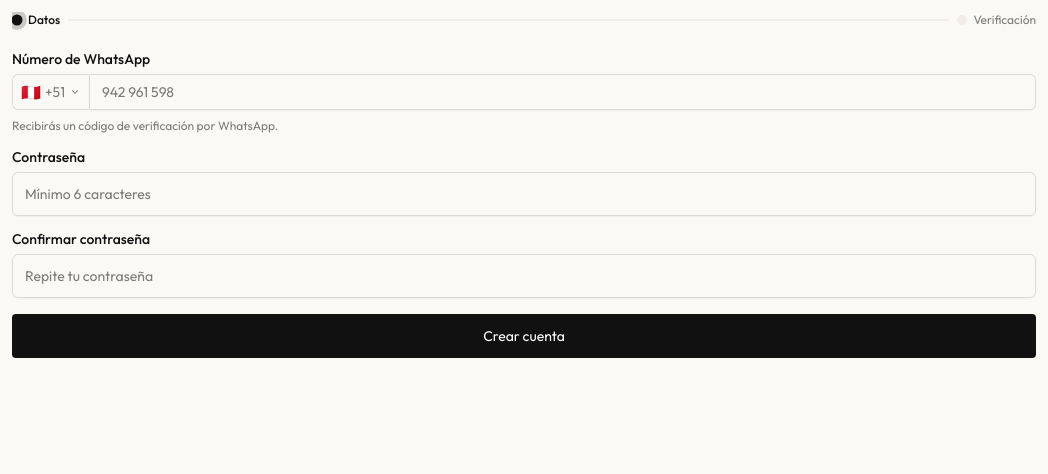
Test case: SignupForm — Step 1 (Phone + Password) › shows error when passwords do not match
The width and height of the screenshot is (1048, 474).
In the field labelled "Número de WhatsApp": point(562, 92) top-left (89, 74), bottom-right (1036, 110), type "999888777"
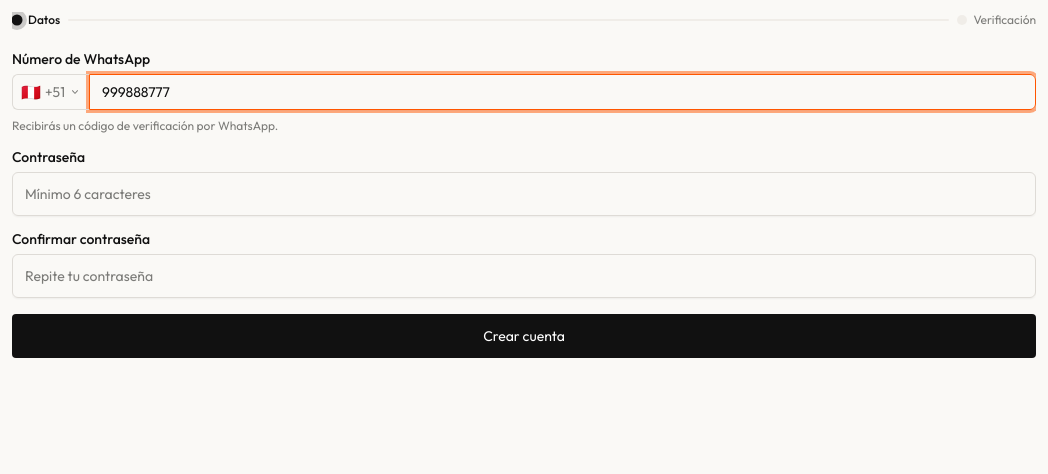
In the password field labelled "Contraseña": point(524, 194) top-left (12, 172), bottom-right (1036, 216), type "password123"
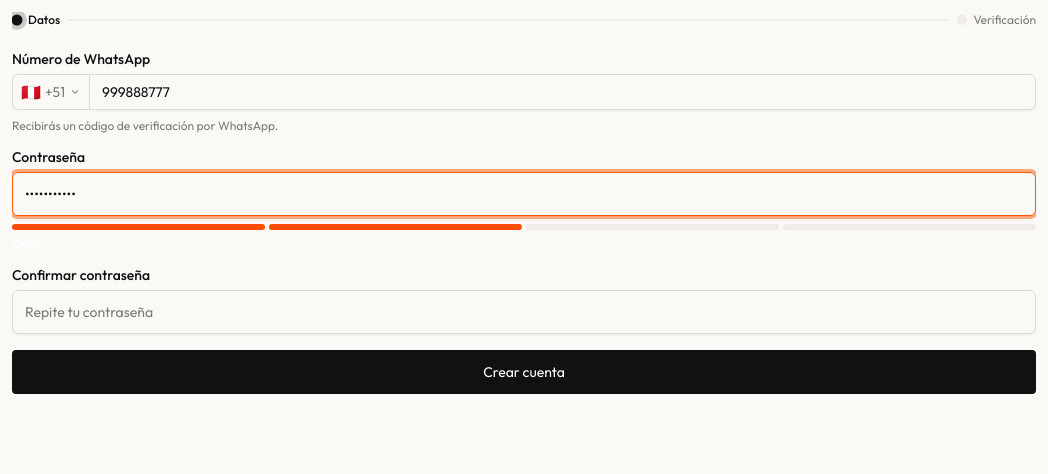
In the password field labelled "Confirmar contraseña": point(524, 312) top-left (12, 290), bottom-right (1036, 334), type "different123"
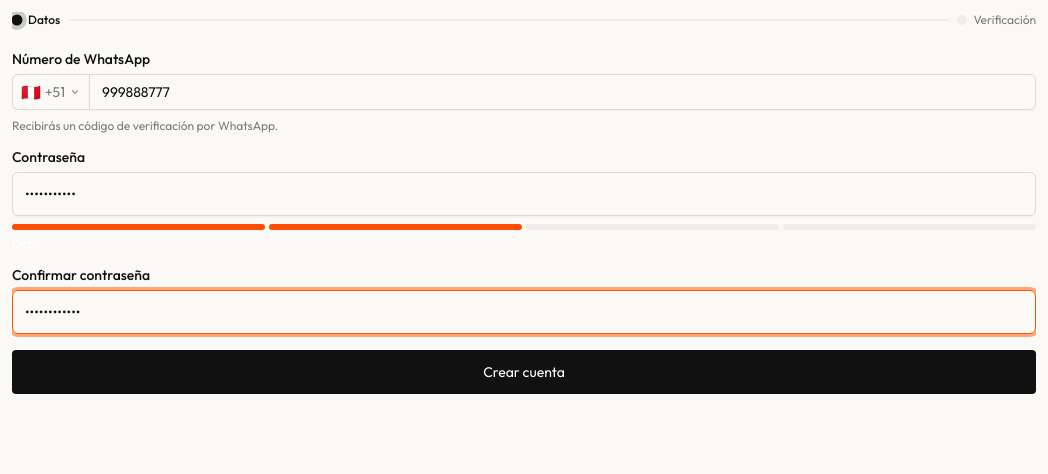
Click the button "Crear cuenta": point(524, 372) top-left (12, 350), bottom-right (1036, 394)
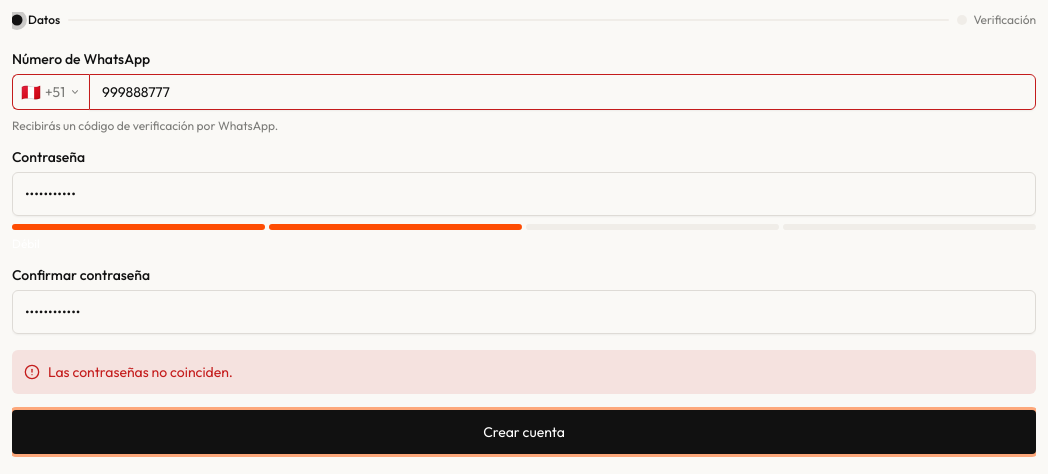
Check: the text "Las contraseñas no coinciden." is shown, box top-left (48, 362), bottom-right (233, 382)
